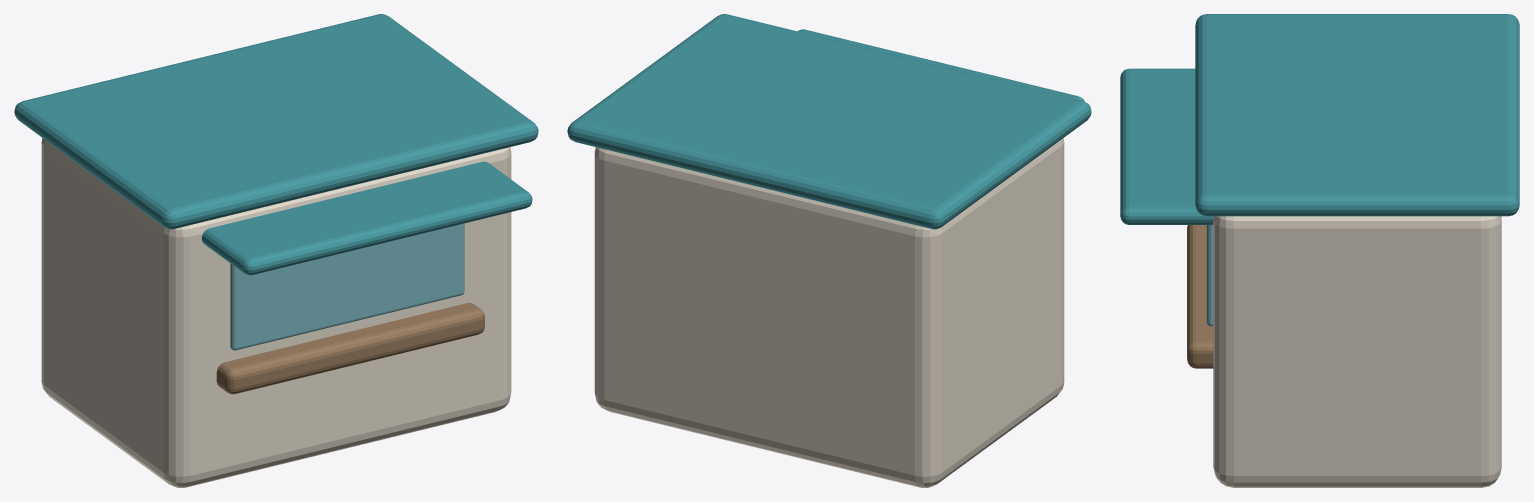
The model's file is kiosk_civic_lod0_v2.glb.
3 views of the same model, side by side, from view 1: azimuth 30°, elevation 25°; view 2: azimuth 150°, elevation 25°; view 3: azimuth 270°, elevation 25° (orthographic). The views are drawn at different scales.
Parts seen in each view (by area): view 1: LOD0_KIOSK_CIVIC_Body, LOD0_KIOSK_CIVIC_Roof, LOD0_KIOSK_CIVIC_Window, LOD0_KIOSK_CIVIC_Canopy, LOD0_KIOSK_CIVIC_Counter; view 2: LOD0_KIOSK_CIVIC_Body, LOD0_KIOSK_CIVIC_Roof, LOD0_KIOSK_CIVIC_Canopy; view 3: LOD0_KIOSK_CIVIC_Body, LOD0_KIOSK_CIVIC_Roof, LOD0_KIOSK_CIVIC_Canopy, LOD0_KIOSK_CIVIC_Counter, LOD0_KIOSK_CIVIC_Window.
Part boxes in pixels (<box>): LOD0_KIOSK_CIVIC_Body: <box>41,138,511,487</box>; LOD0_KIOSK_CIVIC_Roof: <box>14,14,538,229</box>; LOD0_KIOSK_CIVIC_Window: <box>230,223,464,350</box>; LOD0_KIOSK_CIVIC_Canopy: <box>201,161,532,275</box>; LOD0_KIOSK_CIVIC_Counter: <box>216,302,484,394</box>; LOD0_KIOSK_CIVIC_Body: <box>594,138,1064,487</box>; LOD0_KIOSK_CIVIC_Roof: <box>567,14,1091,229</box>; LOD0_KIOSK_CIVIC_Canopy: <box>798,29,1084,101</box>; LOD0_KIOSK_CIVIC_Body: <box>1213,216,1501,487</box>; LOD0_KIOSK_CIVIC_Roof: <box>1195,14,1519,216</box>; LOD0_KIOSK_CIVIC_Canopy: <box>1120,68,1213,224</box>; LOD0_KIOSK_CIVIC_Counter: <box>1187,225,1213,368</box>; LOD0_KIOSK_CIVIC_Window: <box>1206,225,1213,326</box>.
Size of what is drawn, in the model's own units: 4.35 by 3.25 by 3.88.
